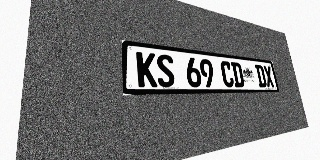6: (185, 57, 202, 87)
9: (199, 58, 215, 87)
C: (220, 61, 235, 87)
D: (231, 62, 245, 87), (255, 64, 267, 87)
K: (136, 51, 158, 87)
S: (156, 54, 176, 87)
X: (263, 65, 275, 87)
